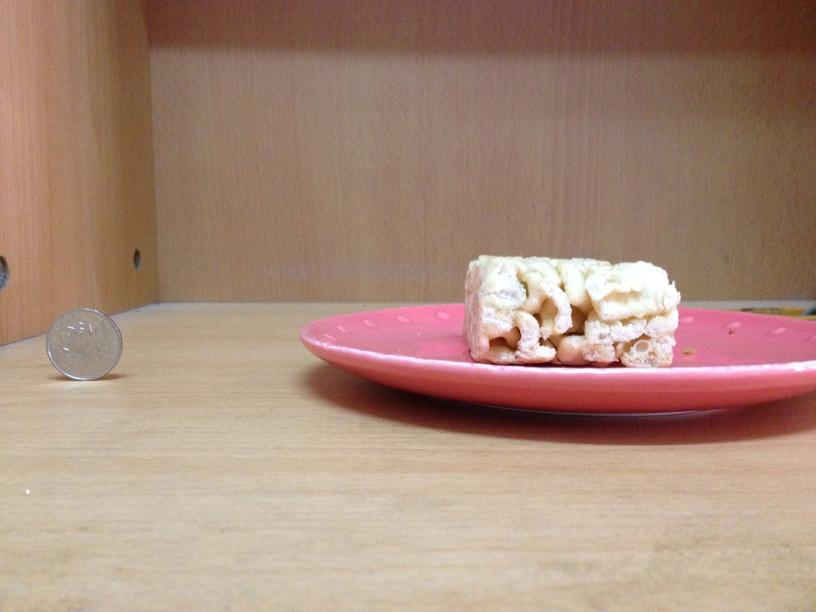coin: (46, 310, 122, 380)
sachima: (460, 254, 678, 368)
